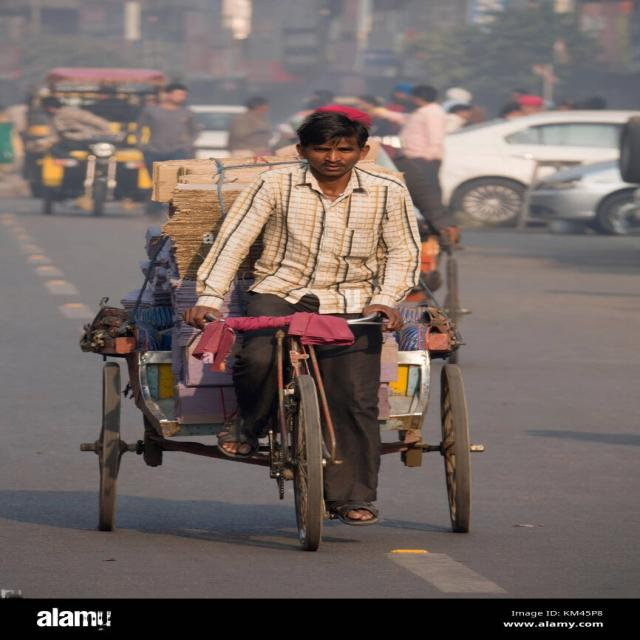bicycle: (80, 106, 484, 551)
